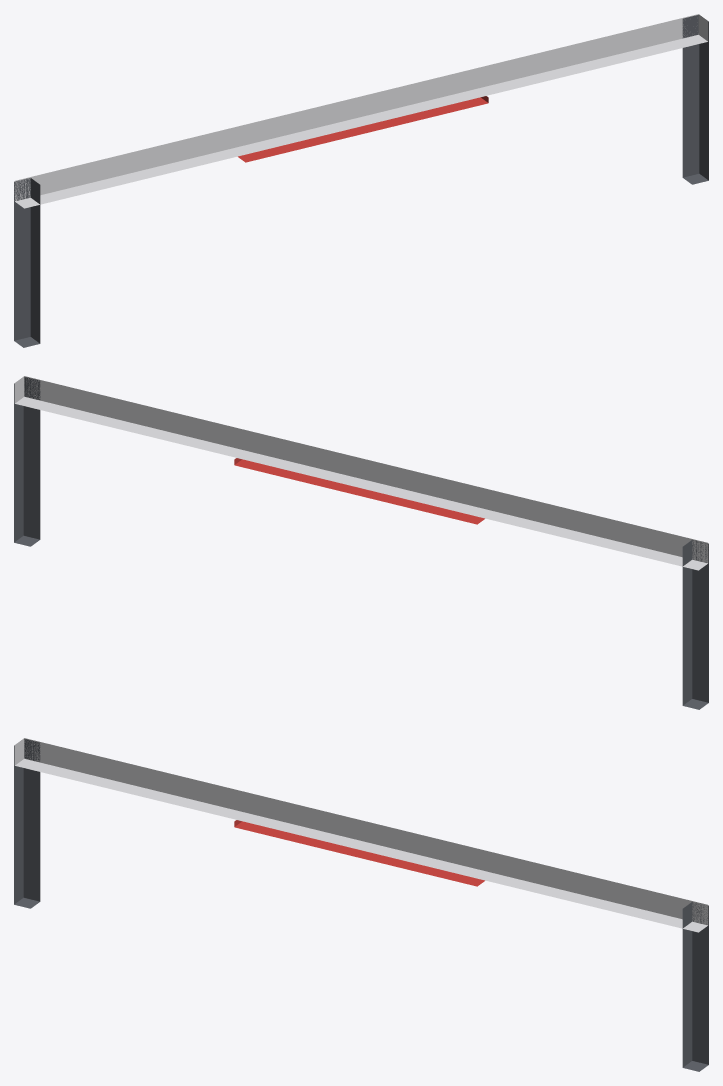
Rendered from start_gate.glb.
3 renders of one model, top to bottom at view 1: azimuth 30°, elevation 25°; view 2: azimuth 150°, elevation 25°; view 3: azimuth 330°, elevation 25°, orthographic.
Size of the model in its own units: 22.55 by 5.03 by 0.65.
